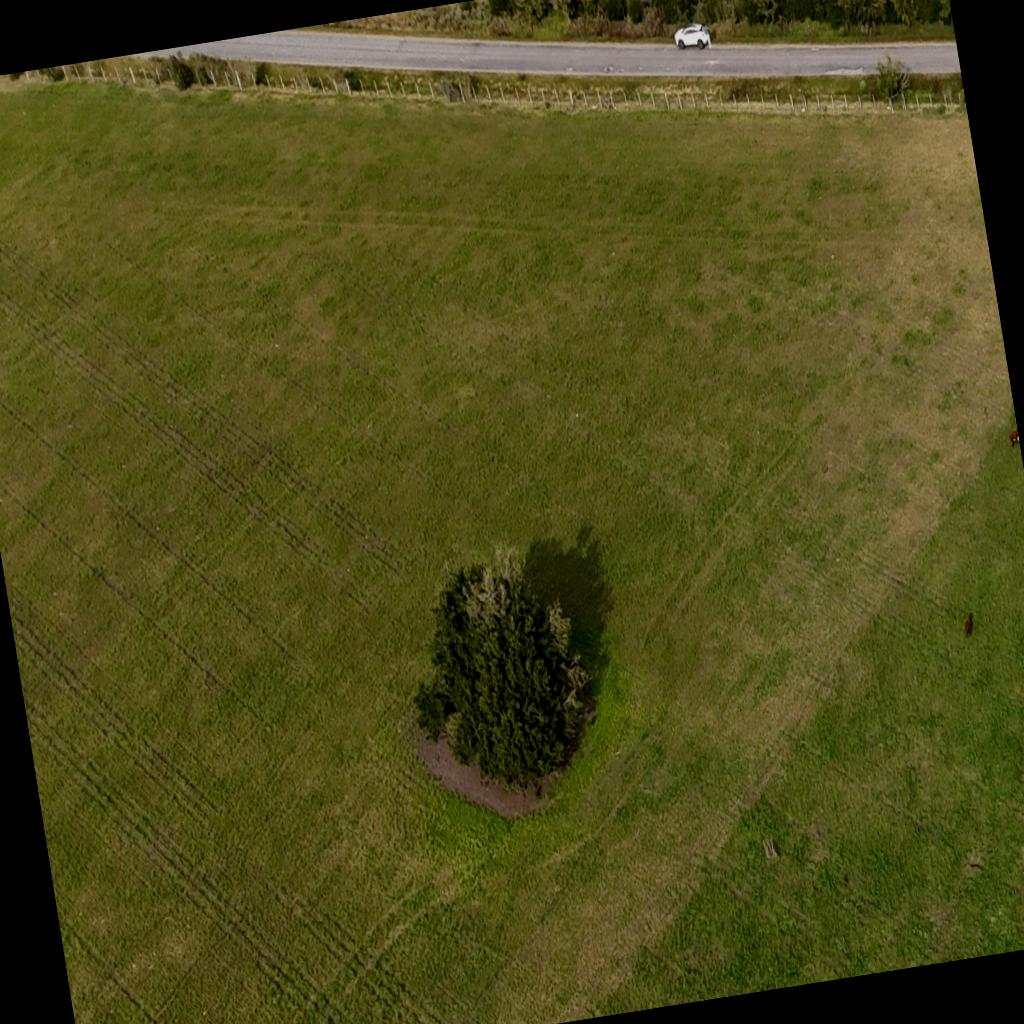cow: (958, 602, 986, 644), (1000, 420, 1020, 446)
